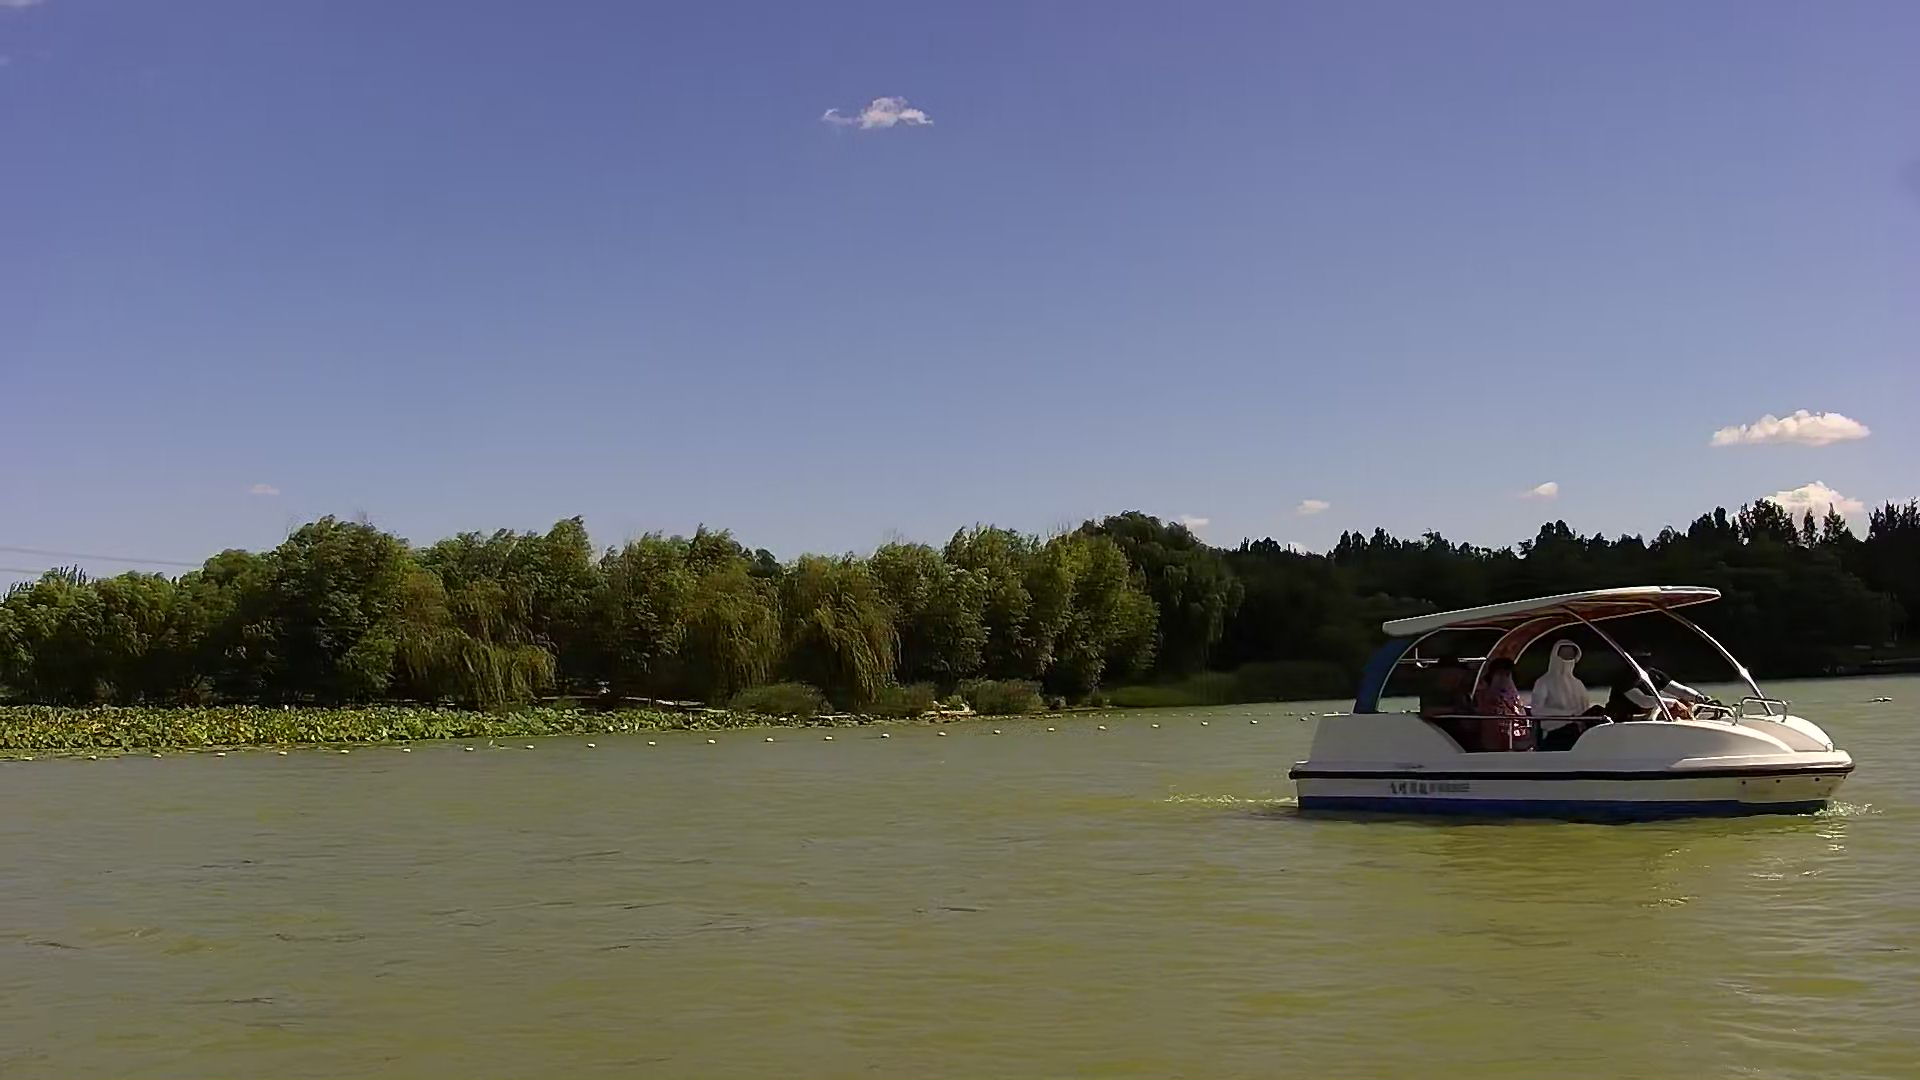boat: (1284, 549, 1858, 845)
